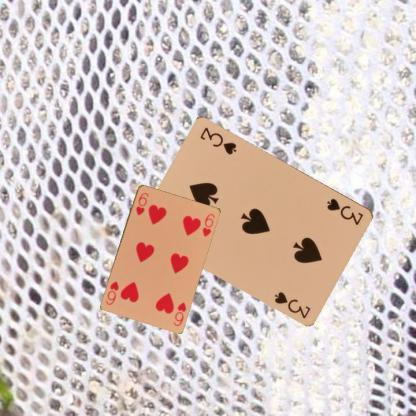3s: (324, 196, 365, 226)
6h: (171, 299, 187, 327), (133, 190, 150, 216)
